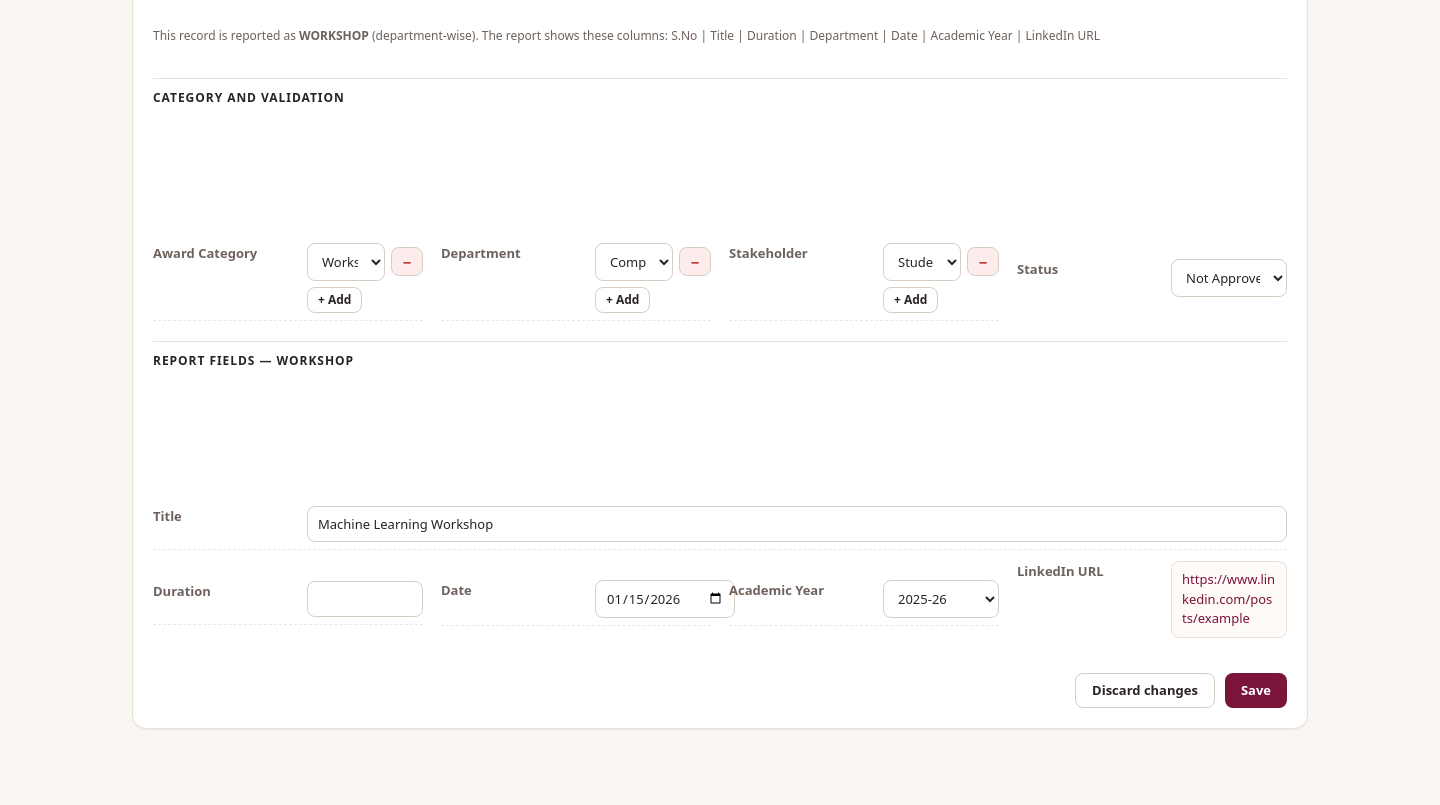
Test: LinkedIn Admin Record Detail › shows 'No changes to save' when nothing changed
(page scrolled)
Expected: the field labelled "Title" is shown, [307,506,1287,542]
Click the button "Save".
click(1256, 690)  # box [1225,673,1287,708]
(page scrolled)
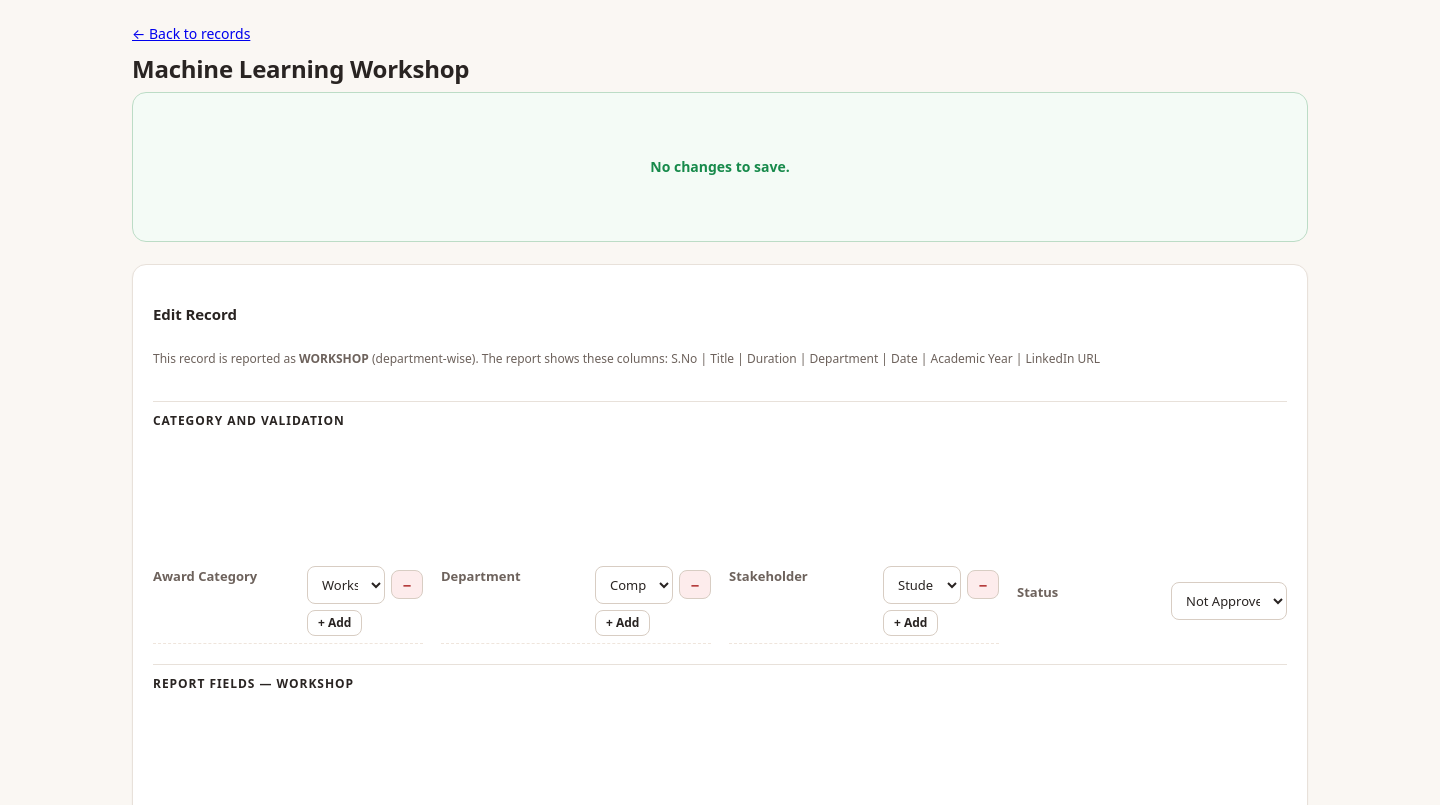
Expected: the text "No changes to save." is shown, [132,92,1308,242]
